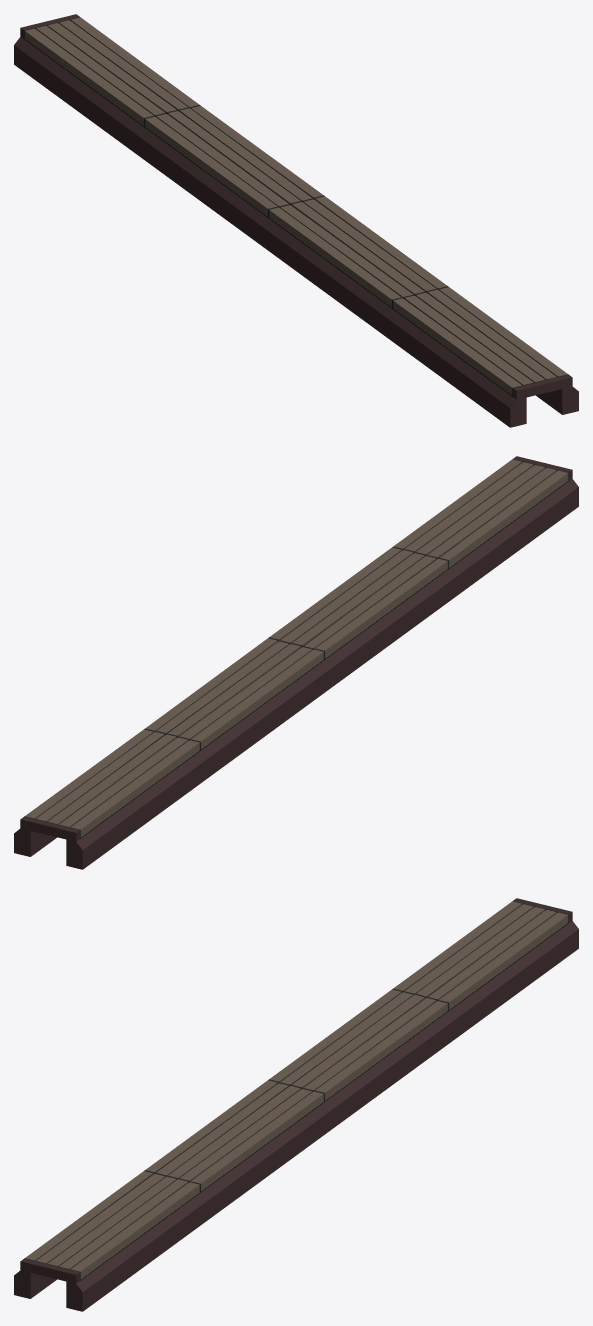
File: SW_ENV_EL_TrackBase_Walkway_Central_20m_ALT.fbx
3 renders of one model, top to bottom at view 1: azimuth 30°, elevation 25°; view 2: azimuth 150°, elevation 25°; view 3: azimuth 330°, elevation 25°, orthographic.
Visible parts, largest first — view 1: SW_ENV_EL_TrackBase_Walkway_Central_20m_ALT; view 2: SW_ENV_EL_TrackBase_Walkway_Central_20m_ALT; view 3: SW_ENV_EL_TrackBase_Walkway_Central_20m_ALT.
Boxes of the visible parts, x1,y1,x2,y2 form: SW_ENV_EL_TrackBase_Walkway_Central_20m_ALT: (14,14,578,427); SW_ENV_EL_TrackBase_Walkway_Central_20m_ALT: (14,456,578,869); SW_ENV_EL_TrackBase_Walkway_Central_20m_ALT: (14,898,578,1311).
Size of the model in its own units: 160 by 79.34 by 2000.
